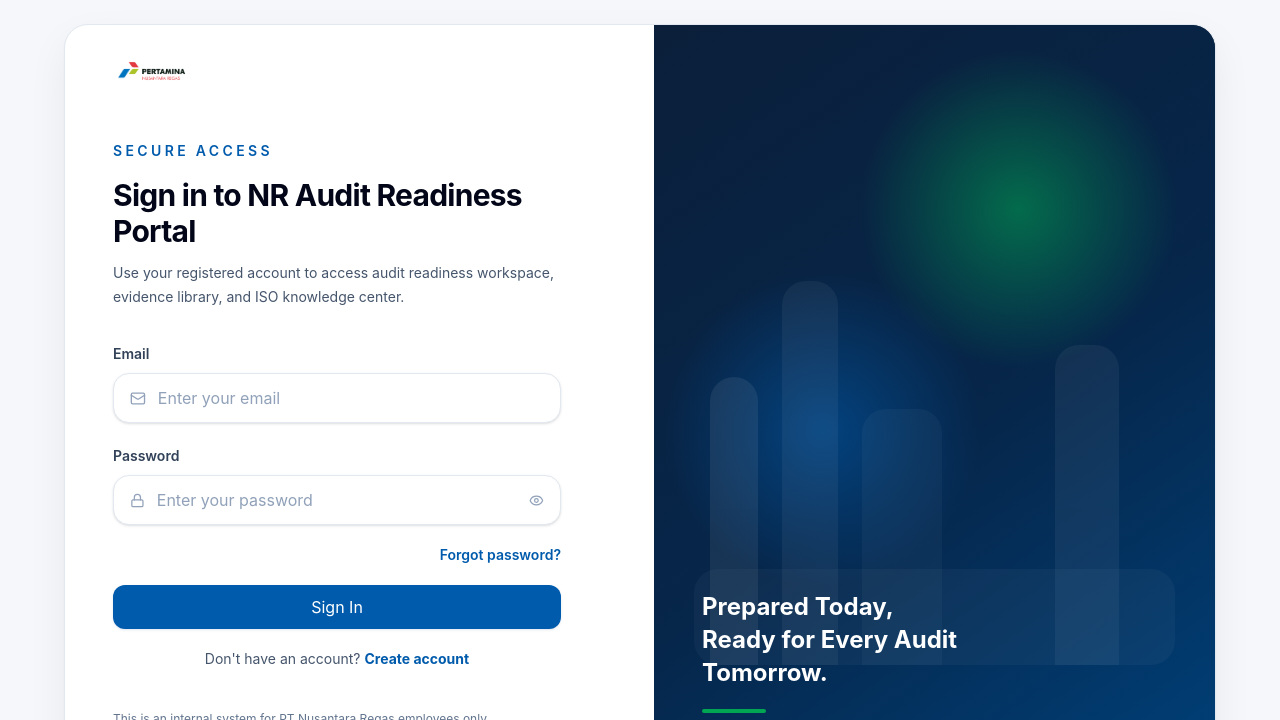
authentication pages › displays authentication errors and restores the submit button
In the field labelled "Email": (351, 398) [158, 386, 544, 410], type "auditor@example.com"
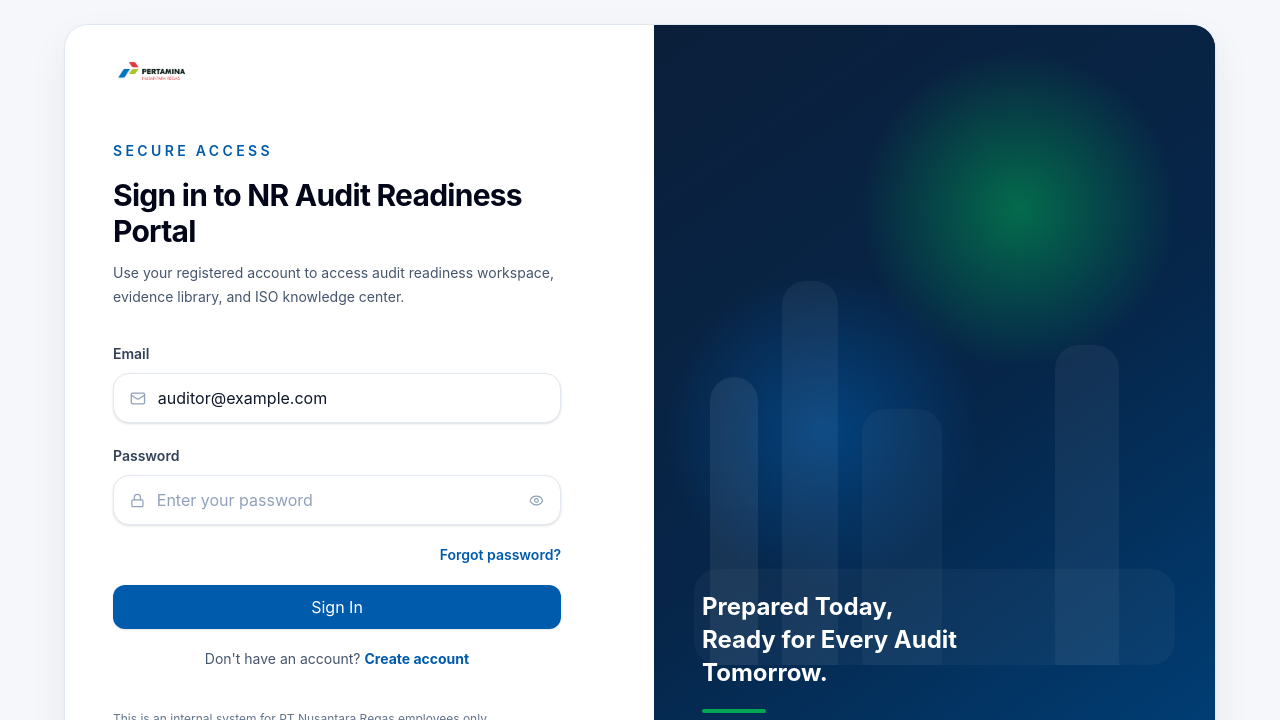
In the password field labelled "Password": (337, 500) [157, 488, 517, 512], type "wrong-password"
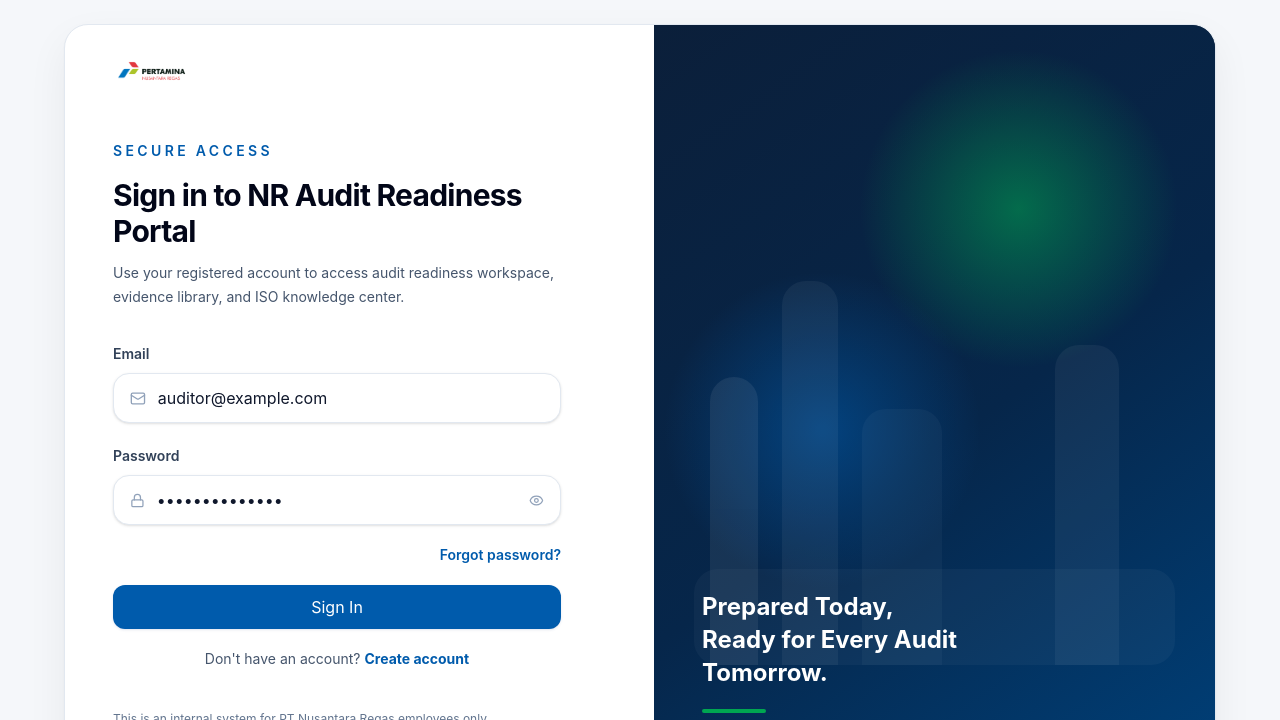
Click the button "Sign In": (337, 607) [113, 585, 561, 629]
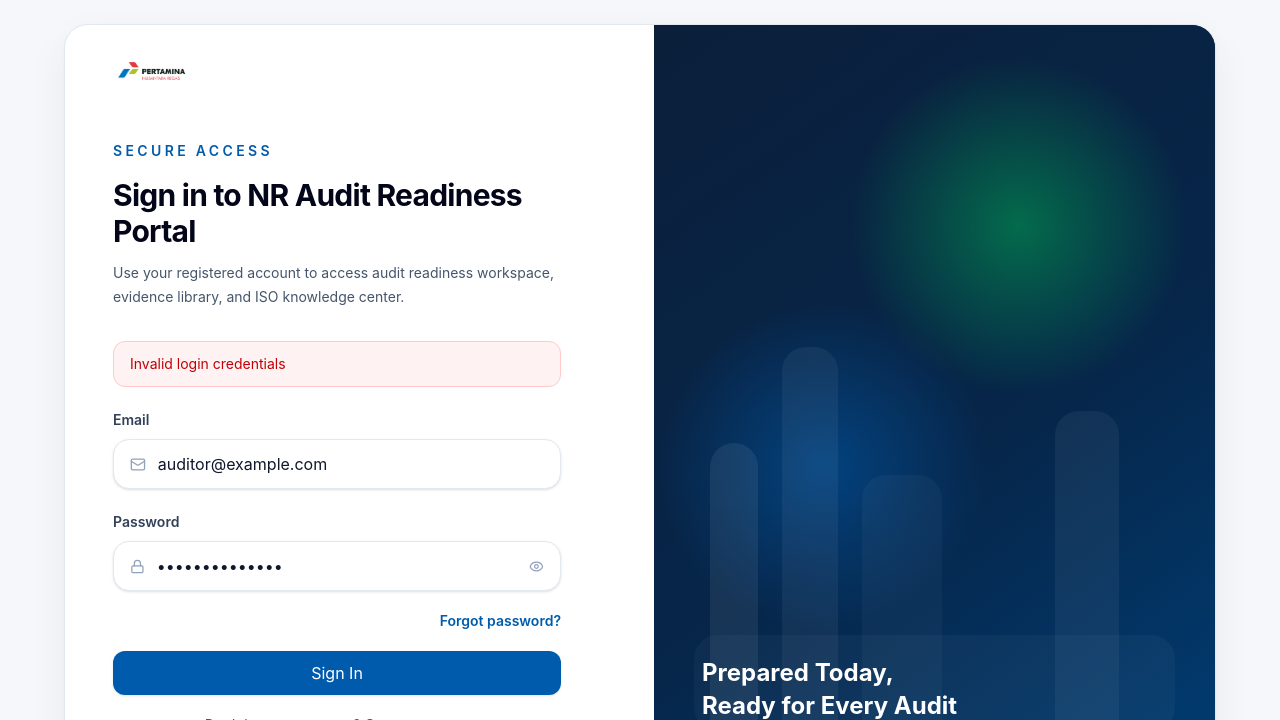
Check: the button "Sign In" is enabled, box [113, 651, 561, 695]
Check: the text "Invalid login credentials" is shown, box [113, 341, 561, 387]
